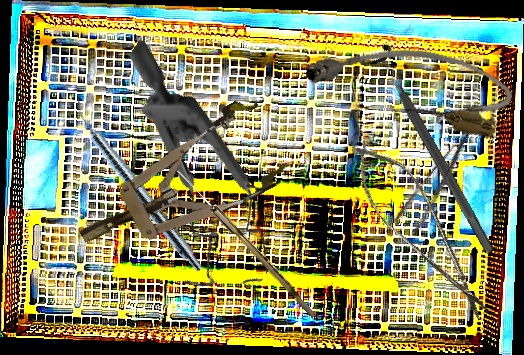Cannula: (299, 23, 518, 142)
Dressing Forceps: (390, 117, 497, 239)
Fixation Ring: (356, 39, 508, 262)
Handpiece: (64, 97, 210, 276)
Micro Scissor: (336, 128, 507, 331)
Speculum: (39, 37, 337, 320), (59, 92, 296, 278)
Surgical Spoon: (173, 167, 320, 319)
